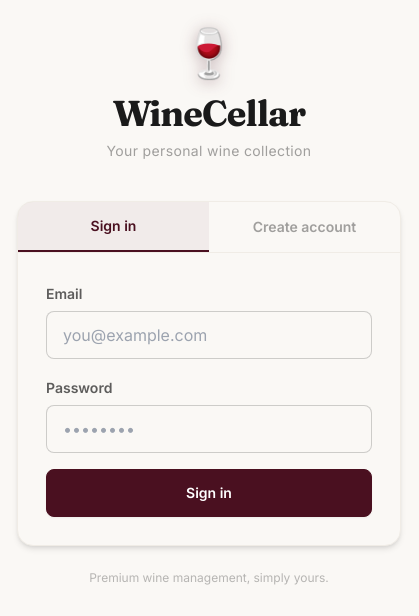
LoginPage › shows field error when password is empty
Type "test@example.com" into the field with test id "email-input" at (209, 335), box [46,311,372,359]
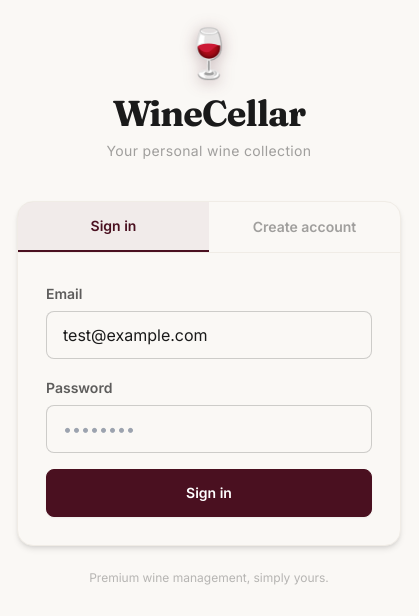
Click the button with test id "login-btn" at (209, 493), box [46,469,372,517]
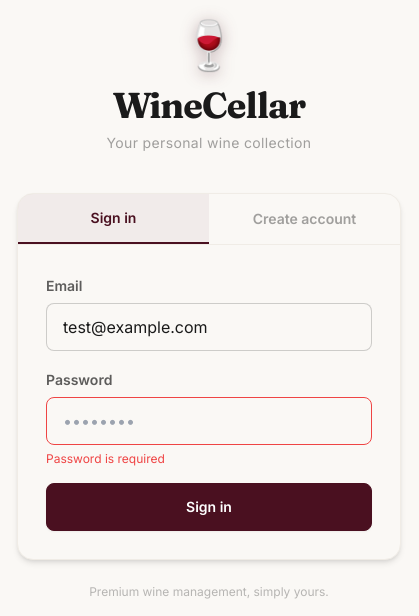
Expected: the text "Password is required" is shown, [46,451,165,466]
